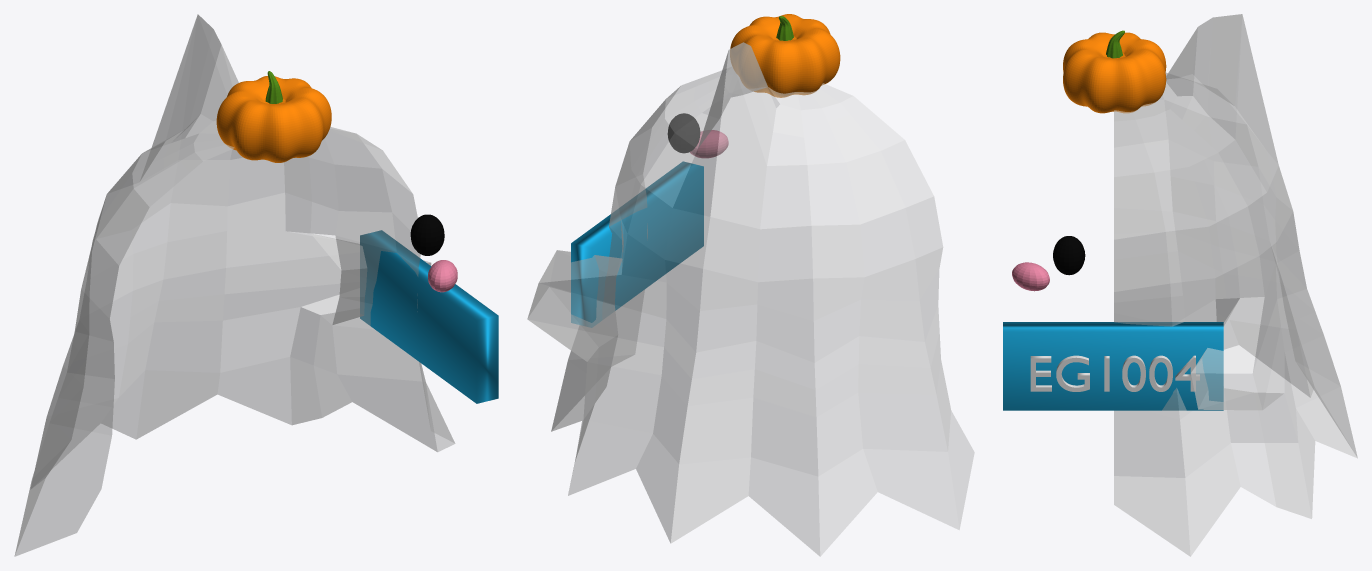
File: EG_ghost.glb
3 views of the same model, side by side, from view 1: azimuth 30°, elevation 25°; view 2: azimuth 150°, elevation 25°; view 3: azimuth 270°, elevation 25° (orthographic). The views are drawn at different scales.
Visible parts, largest first — view 1: Cube, Cube.001, Sphere.001, Sphere, Sphere.002; view 2: Cube, Cube.001, Sphere.001, Sphere, Sphere.002; view 3: Cube, Cube.001, Sphere.001, Text, Sphere, Sphere.002.
Part boxes in pixels (x1,y1,x2,y2): Cube: [14, 14, 455, 556]; Cube.001: [360, 230, 498, 403]; Sphere.001: [216, 71, 331, 162]; Sphere: [410, 214, 444, 255]; Sphere.002: [428, 260, 457, 292]; Cube: [527, 42, 974, 556]; Cube.001: [571, 161, 703, 327]; Sphere.001: [730, 14, 840, 97]; Sphere: [667, 113, 700, 153]; Sphere.002: [690, 130, 728, 158]; Cube: [1114, 14, 1357, 556]; Cube.001: [1003, 322, 1223, 410]; Sphere.001: [1063, 30, 1166, 113]; Text: [1030, 355, 1199, 391]; Sphere: [1053, 236, 1085, 275]; Sphere.002: [1012, 262, 1049, 291].
Size of the model in its own units: 1.47 by 1.56 by 1.13.
